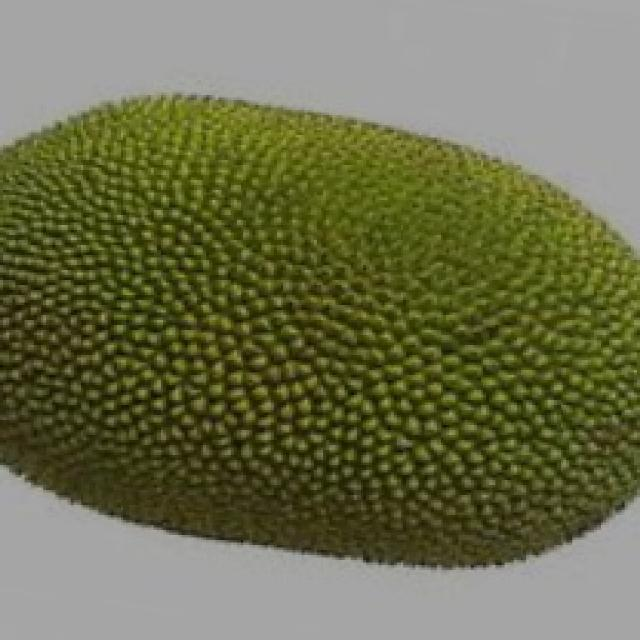Fruit: (0, 72, 406, 502), (283, 215, 640, 610), (261, 75, 640, 332)
